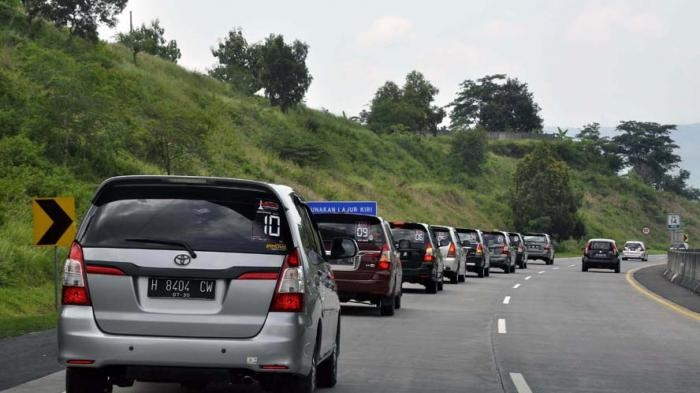plate: (149, 278, 214, 301)
